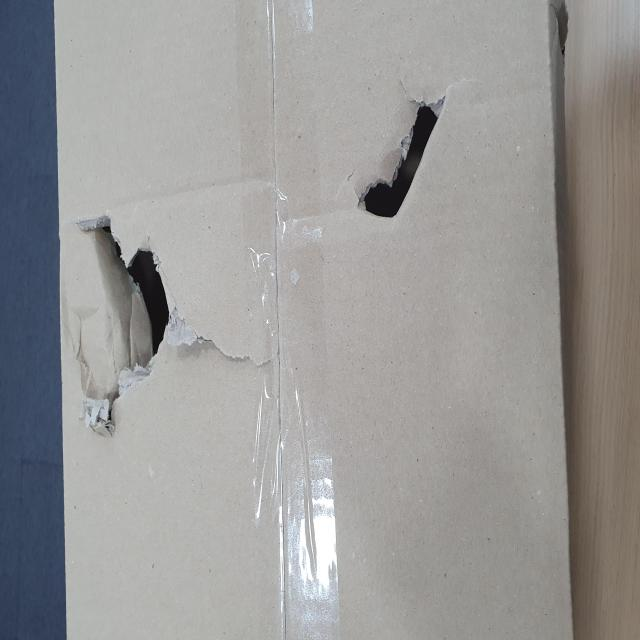damaged: (120, 128, 249, 324), (222, 628, 312, 640)
